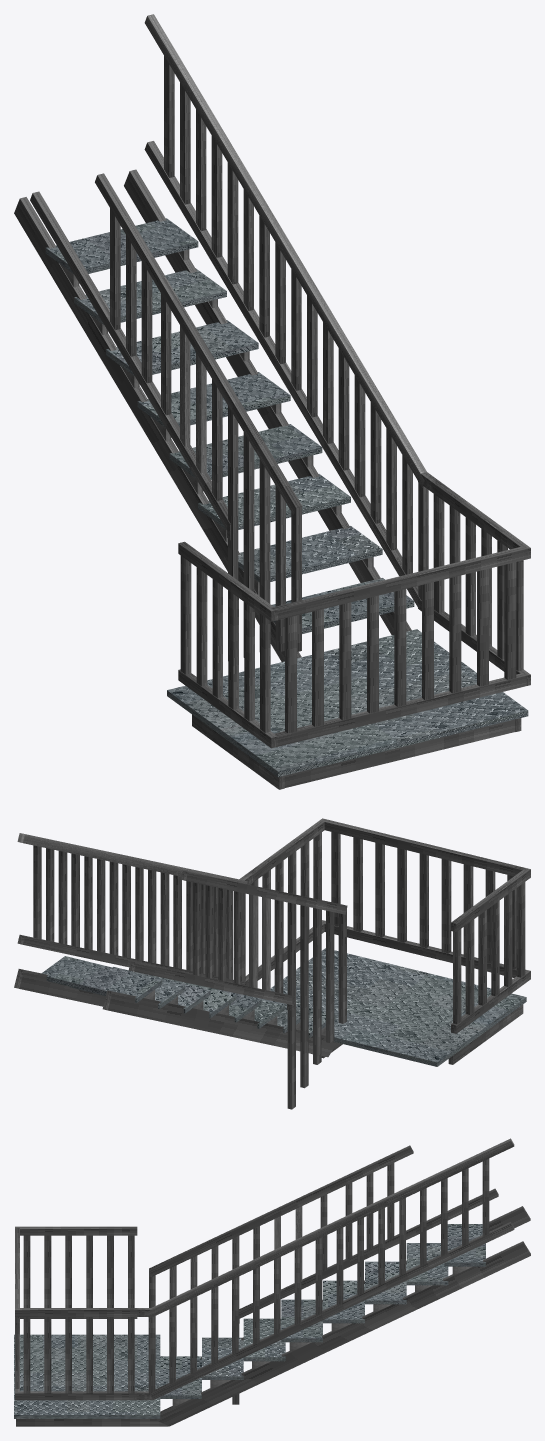
Rendered from metal_stairs_loop.gltf.
The picture shows the model from 3 angles, top to bottom: view 1: azimuth 30°, elevation 25°; view 2: azimuth 150°, elevation 25°; view 3: azimuth 270°, elevation 25°; orthographic projection. The views are drawn at different scales.
Parts seen in each view (by area): view 1: Stair loop; view 2: Stair loop; view 3: Stair loop.
Part boxes in pixels (x1,y1,x2,y2): Stair loop: [14, 14, 530, 789]; Stair loop: [14, 818, 530, 1109]; Stair loop: [14, 1138, 530, 1426].
Size of the model in its own units: 2.95 by 5.03 by 7.73.
Materials: 2 (2 with a texture image).
